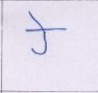e_matra: (28, 11, 45, 28)
